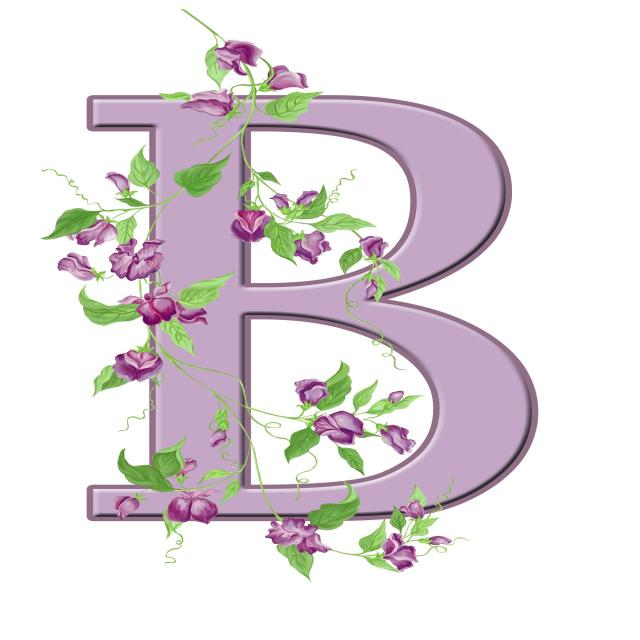B: (19, 52, 562, 588)
